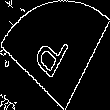P_SW: (33, 24, 77, 86)
